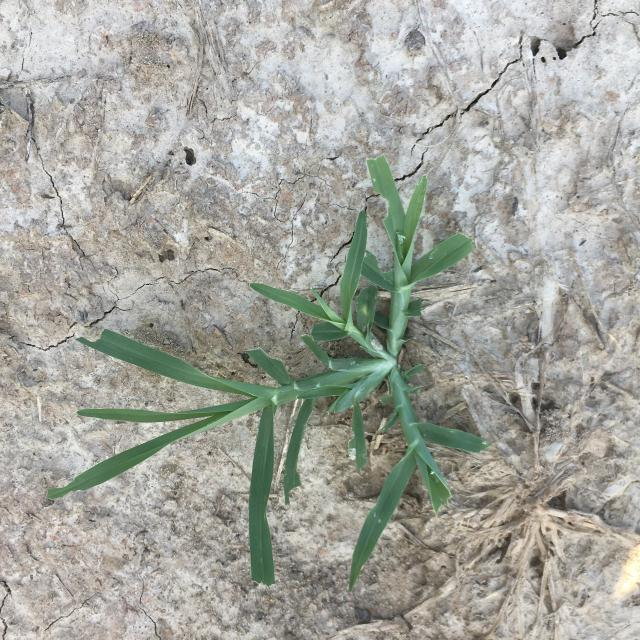Goosegrass: (46, 155, 490, 592)
